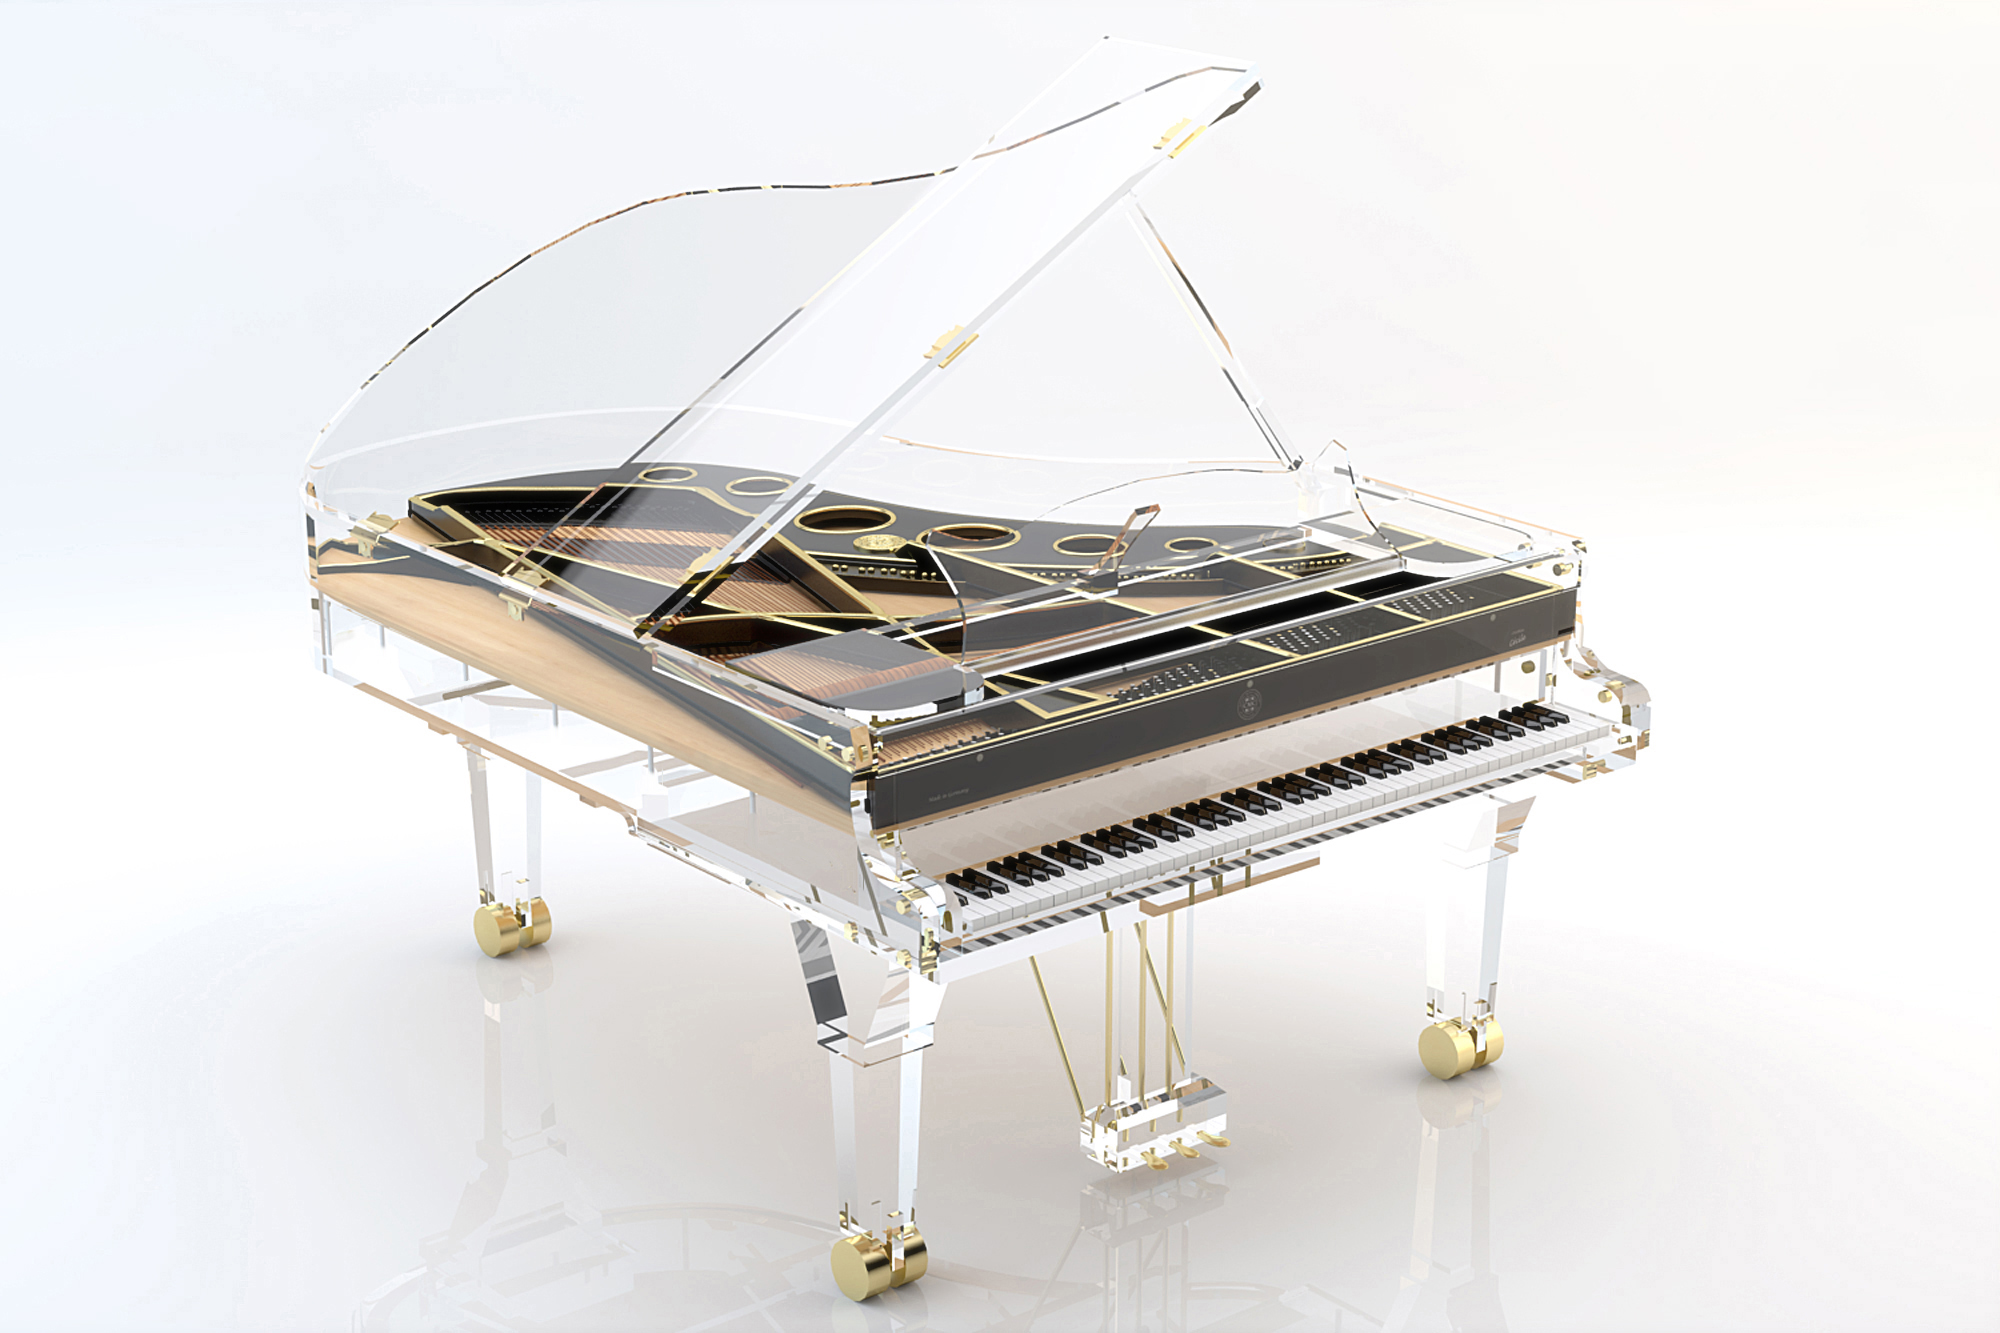GrandPiano: (303, 115, 1674, 1143)
